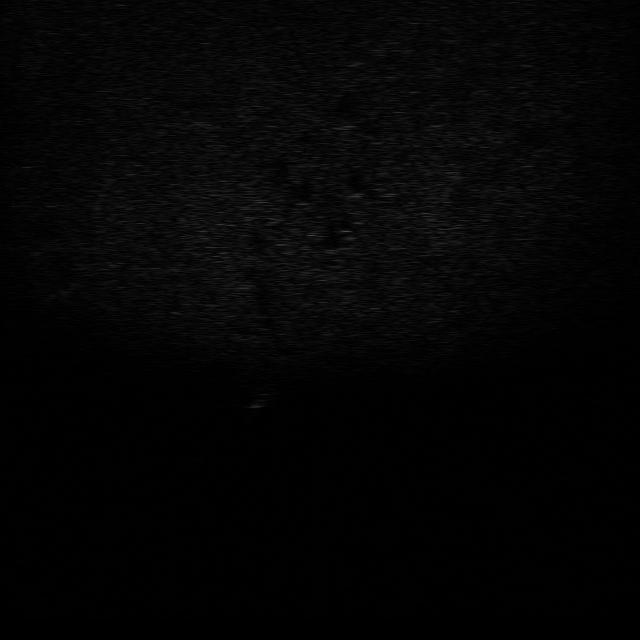human body: (238, 382, 274, 427)
